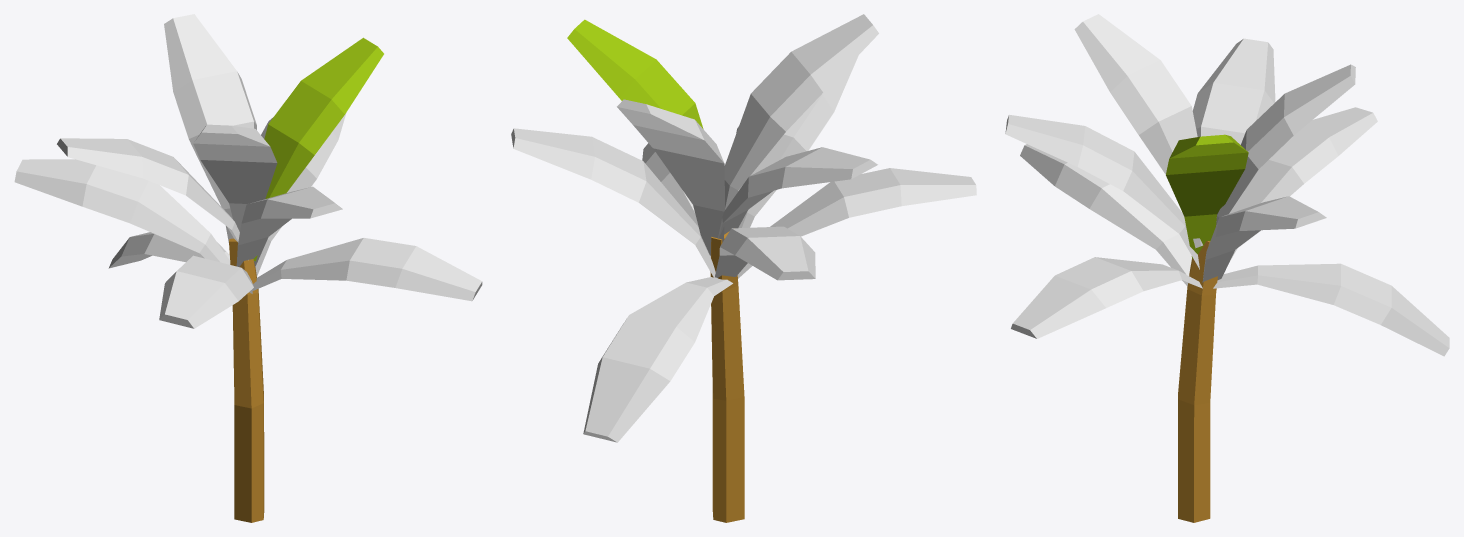
Rendered from giantherb.glb.
The picture shows the model from 3 angles, left to right: view 1: azimuth 30°, elevation 25°; view 2: azimuth 150°, elevation 25°; view 3: azimuth 270°, elevation 25°; orthographic projection. The views are drawn at different scales.
Parts seen in each view (by area): view 1: Cube.004, Cube.008, Cube.002, Cube.009, Cube, Cube.010, Cube.007, Cube.003, Cube.006, Cube.001, Cube.005; view 2: Cube.001, Cube.010, Cube, Cube.005, Cube.009, Cube.003, Cube.008, Cube.007, Cube.004, Cube.006, Cube.002; view 3: Cube.010, Cube, Cube.001, Cube.006, Cube.002, Cube.007, Cube.008, Cube.004, Cube.003, Cube.009, Cube.005.
Boxes of the visible parts, x1,y1,x2,y2 form: Cube.004: (14,159,230,264); Cube.008: (253,37,383,261); Cube.002: (252,238,482,301); Cube.009: (164,14,256,242); Cube: (229,238,264,522); Cube.010: (193,124,277,231); Cube.007: (57,138,248,260); Cube.003: (159,255,253,328); Cube.006: (236,186,342,266); Cube.001: (108,232,230,268); Cube.005: (255,113,346,276); Cube.001: (583,277,732,442); Cube.010: (724,14,878,209); Cube: (710,231,744,522); Cube.005: (511,128,717,278); Cube.009: (617,99,724,255); Cube.003: (737,168,976,278); Cube.008: (567,19,703,128); Cube.007: (718,147,877,238); Cube.004: (715,226,815,280); Cube.006: (736,55,858,227); Cube.002: (642,143,710,272); Cube.010: (1074,14,1202,248); Cube: (1178,241,1217,522); Cube.001: (1213,263,1449,356); Cube.006: (1005,114,1199,269); Cube.002: (1011,257,1202,338); Cube.007: (1192,38,1275,144); Cube.008: (1166,134,1248,258); Cube.004: (1229,107,1377,260); Cube.003: (1020,144,1191,286); Cube.009: (1216,64,1355,225); Cube.005: (1202,196,1326,282).
Bounding box in the file's own units: 2.77 × 3.73 × 3.27.
11 materials, 11 textured.
